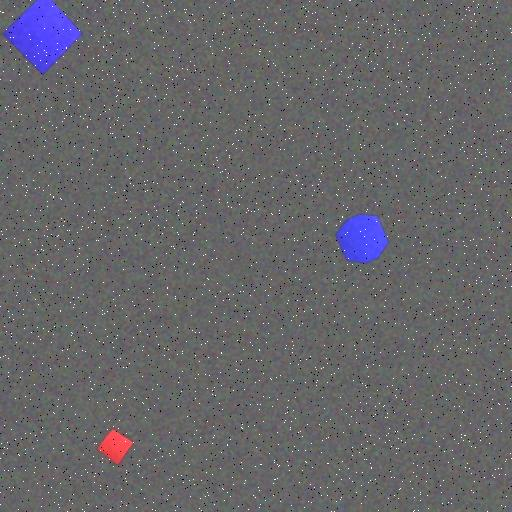BLUE_SQUARE: (2, 0, 83, 76)
RED_SQUARE: (96, 428, 134, 466)
